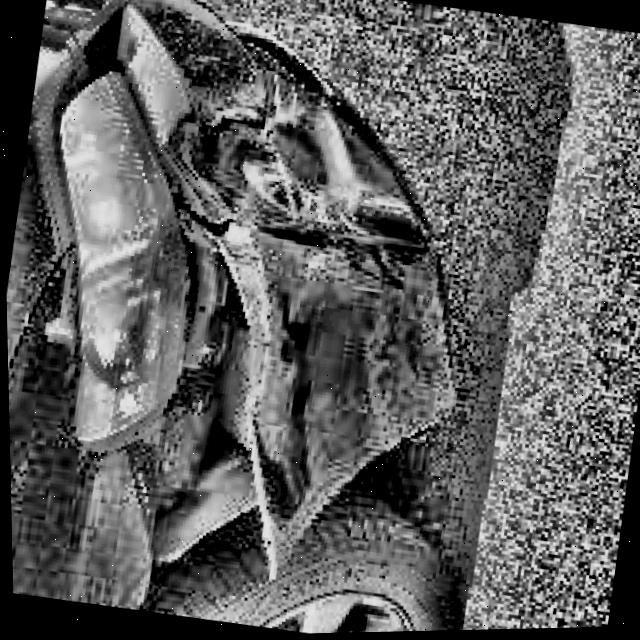bumper_dent: (135, 245, 286, 540), (190, 103, 406, 252)
